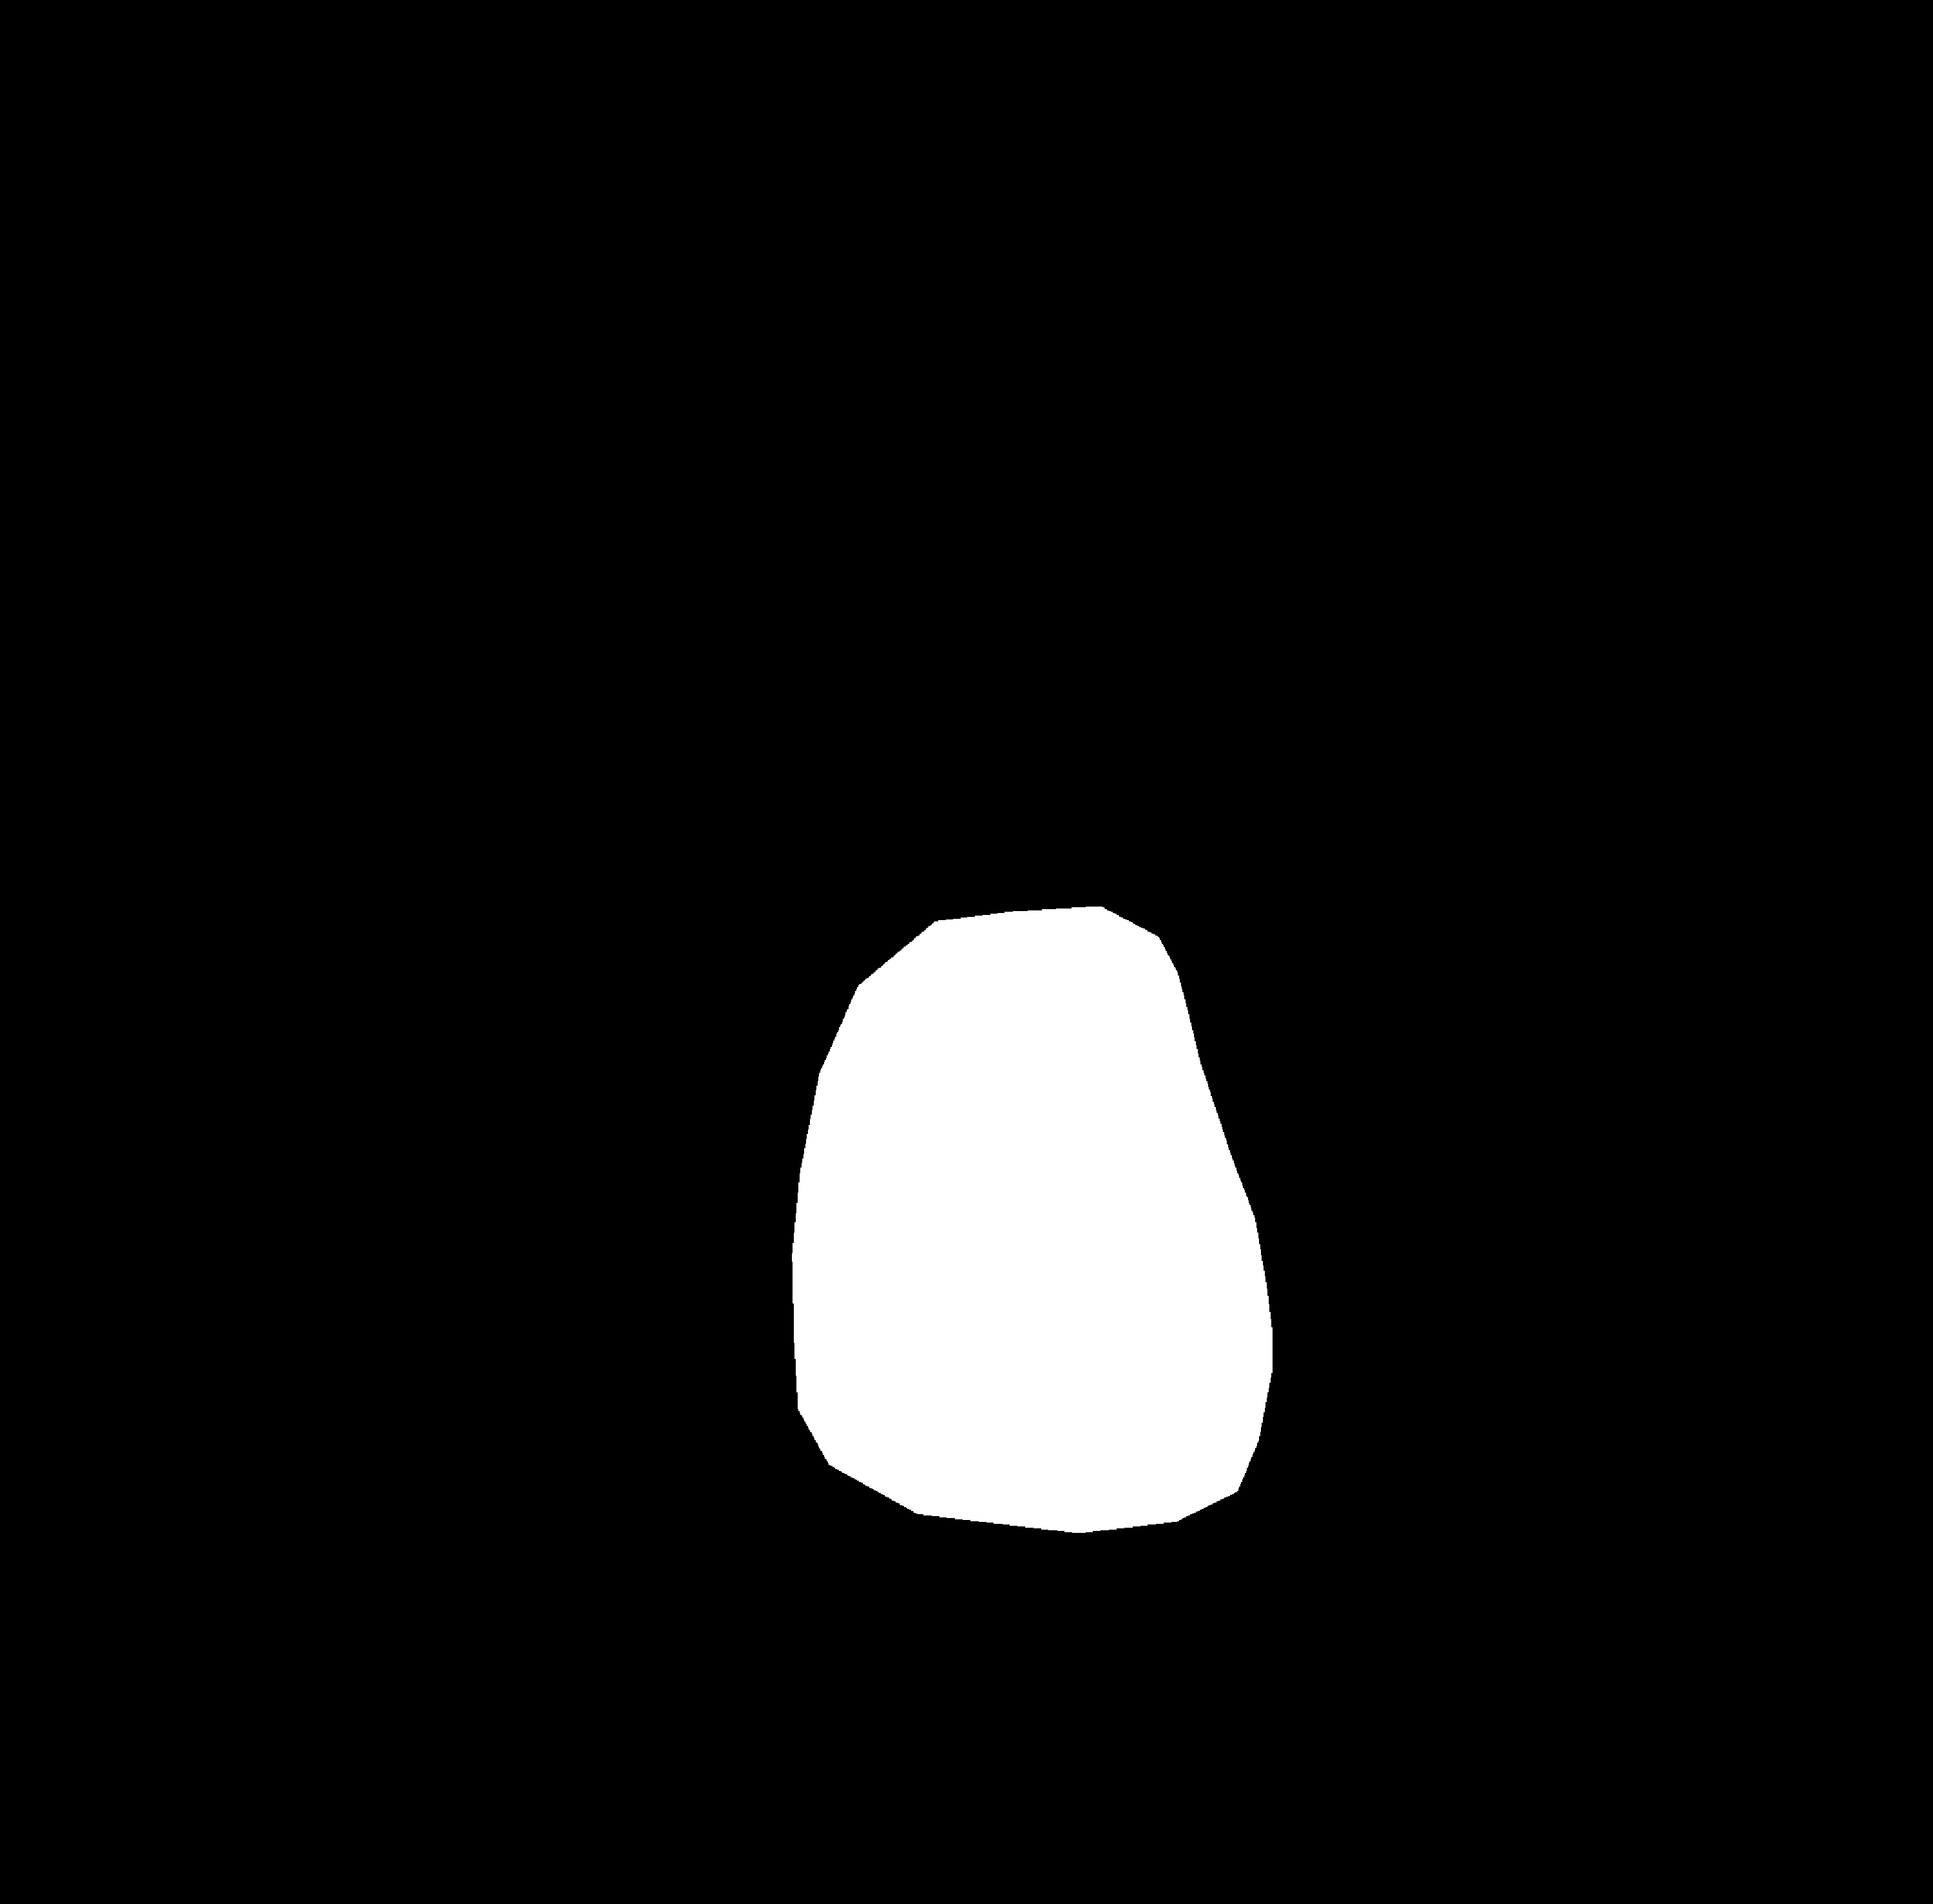heart: (779, 997, 1267, 1538)
left_lung: (295, 181, 884, 1710)
right_lung: (1004, 185, 1543, 1742)
